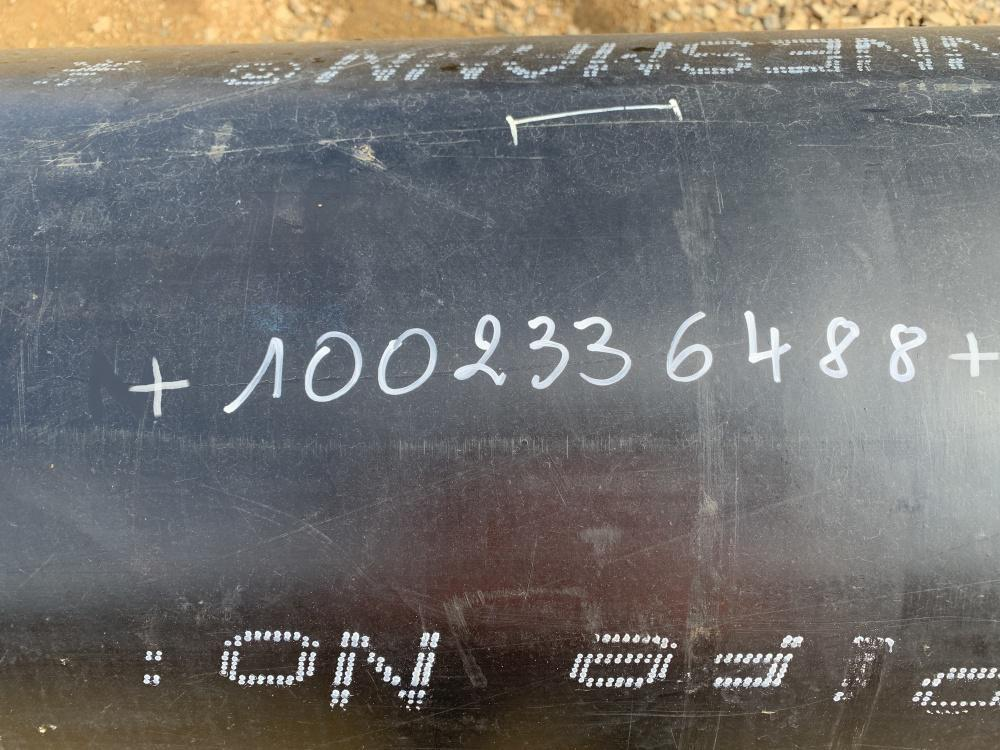+: (130, 355, 187, 418), (948, 331, 999, 374)
0: (306, 326, 364, 404), (380, 326, 438, 396)
1: (222, 334, 286, 418)
2: (454, 313, 507, 392)
3: (572, 313, 634, 388), (526, 313, 570, 394)
4: (740, 308, 798, 386)
6: (664, 310, 715, 387)
8: (817, 314, 862, 380), (891, 320, 930, 384)
